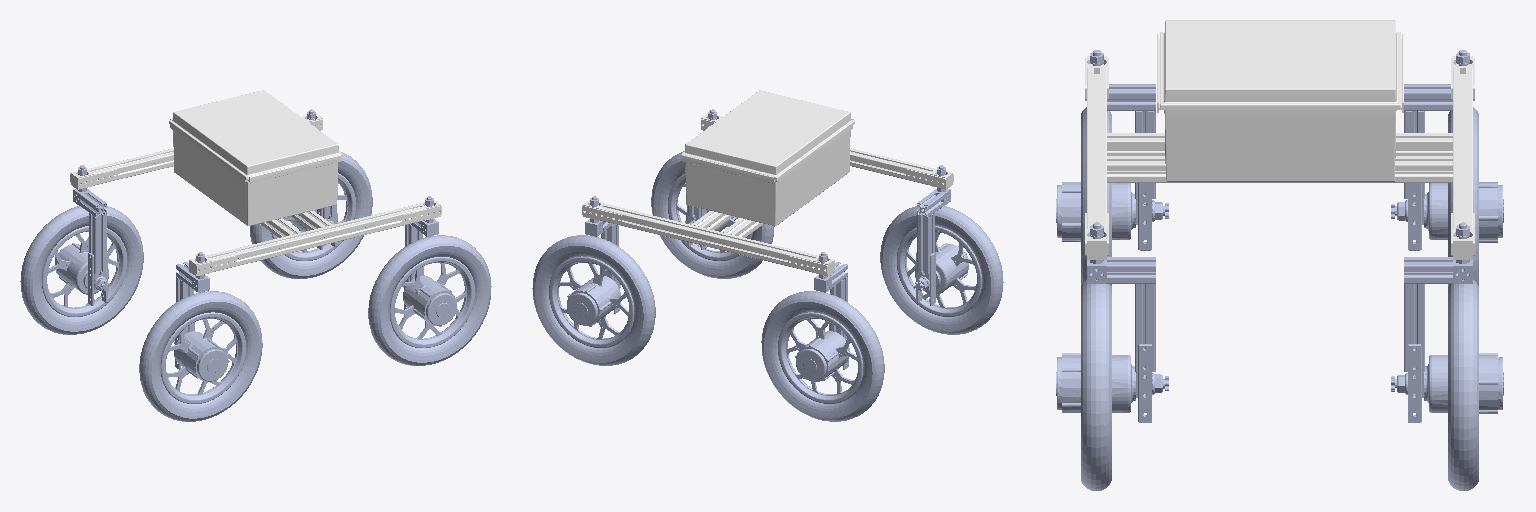
URDF robot description (atcart_omni_gazebo):
<?xml version="1.0" encoding="utf-8"?>
<!-- This URDF was automatically created by SolidWorks to URDF Exporter! Originally created by [author] ([email redacted]) 
     Commit Version: 1.6.0-1-g15f4949  Build Version: 1.6.7594.29634
     For more information, please see http://wiki.ros.org/sw_urdf_exporter -->
<robot
  name="atcart_omni_gazebo">
  <link
    name="base_link">
    <inertial>
      <origin
        xyz="-8.5272E-05 0.00019433 0.013517"
        rpy="0 0 0" />
      <mass
        value="3.6422" />
      <inertia
        ixx="0.035572"
        ixy="-2.0114E-09"
        ixz="-5.1822E-09"
        iyy="0.035027"
        iyz="-1.6826E-08"
        izz="0.06744" />
    </inertial>
    <visual>
      <origin
        xyz="0 0 0"
        rpy="0 0 0" />
      <geometry>
        <mesh
          filename="package://atcart_omni_gazebo/meshes/base_link.STL" />
      </geometry>
      <material
        name="">
        <color
          rgba="1 1 1 1" />
      </material>
    </visual>
    <collision>
      <origin
        xyz="0 0 0"
        rpy="0 0 0" />
      <geometry>
        <mesh
          filename="package://atcart_omni_gazebo/meshes/base_link.STL" />
      </geometry>
    </collision>
  </link>
  <link
    name="front_left_holder">
    <inertial>
      <origin
        xyz="-2.3682E-10 -0.053093 -0.15645"
        rpy="0 0 0" />
      <mass
        value="0.38557" />
      <inertia
        ixx="0.00036334"
        ixy="-3.3091E-13"
        ixz="2.2993E-12"
        iyy="0.00034289"
        iyz="2.014E-07"
        izz="7.3657E-05" />
    </inertial>
    <visual>
      <origin
        xyz="0 0 0"
        rpy="0 0 0" />
      <geometry>
        <mesh
          filename="package://atcart_omni_gazebo/meshes/front_left_holder.STL" />
      </geometry>
      <material
        name="">
        <color
          rgba="0.79216 0.81961 0.93333 1" />
      </material>
    </visual>
    <collision>
      <origin
        xyz="0 0 0"
        rpy="0 0 0" />
      <geometry>
        <mesh
          filename="package://atcart_omni_gazebo/meshes/front_left_holder.STL" />
      </geometry>
    </collision>
  </link>
  <joint
    name="front_left_holder_joint"
    type="revolute">
    <origin
      xyz="0.296 0.265 0.018"
      rpy="0 0 0" />
    <parent
      link="base_link" />
    <child
      link="front_left_holder" />
    <axis
      xyz="0 0 1" />
    <limit
      lower="-2.0"
      upper="2.0"
      effort="1000"
      velocity="1.5" />
  </joint>
  <link
    name="front_left_wheel">
    <inertial>
      <origin
        xyz="1.4231E-06 3.6548E-07 -0.10564"
        rpy="0 0 0" />
      <mass
        value="2.2821" />
      <inertia
        ixx="0.014899"
        ixy="1.1554E-12"
        ixz="-2.4532E-07"
        iyy="0.014899"
        iyz="-8.7617E-09"
        izz="0.02801" />
    </inertial>
    <visual>
      <origin
        xyz="0 0 0"
        rpy="0 0 0" />
      <geometry>
        <mesh
          filename="package://atcart_omni_gazebo/meshes/front_left_wheel.STL" />
      </geometry>
      <material
        name="">
        <color
          rgba="0.79216 0.81961 0.93333 1" />
      </material>
    </visual>
    <collision>
      <origin
        xyz="0 0 0"
        rpy="0 0 0" />
      <geometry>
        <mesh
          filename="package://atcart_omni_gazebo/meshes/front_left_wheel.STL" />
      </geometry>
    </collision>
  </link>
  <joint
    name="front_left_wheel_joint"
    type="continuous">
    <origin
      xyz="0 -0.1046 -0.256"
      rpy="1.5708 -0.17928 0" />
    <parent
      link="front_left_holder" />
    <child
      link="front_left_wheel" />
    <axis
      xyz="0 0 -1" />
    <limit effort="1000" velocity="314.0"/>
  </joint>
  <link
    name="front_right_holder">
    <inertial>
      <origin
        xyz="2.3682E-10 0.053093 -0.15645"
        rpy="0 0 0" />
      <mass
        value="0.38557" />
      <inertia
        ixx="0.00036334"
        ixy="-3.3091E-13"
        ixz="-2.2993E-12"
        iyy="0.00034289"
        iyz="-2.014E-07"
        izz="7.3657E-05" />
    </inertial>
    <visual>
      <origin
        xyz="0 0 0"
        rpy="0 0 0" />
      <geometry>
        <mesh
          filename="package://atcart_omni_gazebo/meshes/front_right_holder.STL" />
      </geometry>
      <material
        name="">
        <color
          rgba="0.79216 0.81961 0.93333 1" />
      </material>
    </visual>
    <collision>
      <origin
        xyz="0 0 0"
        rpy="0 0 0" />
      <geometry>
        <mesh
          filename="package://atcart_omni_gazebo/meshes/front_right_holder.STL" />
      </geometry>
    </collision>
  </link>
  <joint
    name="front_right_holder_joint"
    type="revolute">
    <origin
      xyz="0.296 -0.265 0.018"
      rpy="0 0 0" />
    <parent
      link="base_link" />
    <child
      link="front_right_holder" />
    <axis
      xyz="0 0 1" />
    <limit
      lower="-2.0"
      upper="2.0"
      effort="1000"
      velocity="1.5" />
  </joint>
  <link
    name="front_right_wheel">
    <inertial>
      <origin
        xyz="1.4231E-06 3.6548E-07 -0.10564"
        rpy="0 0 0" />
      <mass
        value="2.2821" />
      <inertia
        ixx="0.014899"
        ixy="1.2061E-12"
        ixz="-2.4532E-07"
        iyy="0.014899"
        iyz="-8.7617E-09"
        izz="0.02801" />
    </inertial>
    <visual>
      <origin
        xyz="0 0 0"
        rpy="0 0 0" />
      <geometry>
        <mesh
          filename="package://atcart_omni_gazebo/meshes/front_right_wheel.STL" />
      </geometry>
      <material
        name="">
        <color
          rgba="0.79216 0.81961 0.93333 1" />
      </material>
    </visual>
    <collision>
      <origin
        xyz="0 0 0"
        rpy="0 0 0" />
      <geometry>
        <mesh
          filename="package://atcart_omni_gazebo/meshes/front_right_wheel.STL" />
      </geometry>
    </collision>
  </link>
  <joint
    name="front_right_wheel_joint"
    type="continuous">
    <origin
      xyz="0 0.1046 -0.256"
      rpy="-1.5708 0.022465 0" />
    <parent
      link="front_right_holder" />
    <child
      link="front_right_wheel" />
    <axis
      xyz="0 0 1" />
    <limit effort="1000" velocity="314.0"/>      
  </joint>
  <link
    name="rear_left_holder">
    <inertial>
      <origin
        xyz="-2.3682E-10 -0.053093 -0.15645"
        rpy="0 0 0" />
      <mass
        value="0.38557" />
      <inertia
        ixx="0.00036334"
        ixy="-3.3091E-13"
        ixz="2.2993E-12"
        iyy="0.00034289"
        iyz="2.014E-07"
        izz="7.3657E-05" />
    </inertial>
    <visual>
      <origin
        xyz="0 0 0"
        rpy="0 0 0" />
      <geometry>
        <mesh
          filename="package://atcart_omni_gazebo/meshes/rear_left_holder.STL" />
      </geometry>
      <material
        name="">
        <color
          rgba="0.79216 0.81961 0.93333 1" />
      </material>
    </visual>
    <collision>
      <origin
        xyz="0 0 0"
        rpy="0 0 0" />
      <geometry>
        <mesh
          filename="package://atcart_omni_gazebo/meshes/rear_left_holder.STL" />
      </geometry>
    </collision>
  </link>
  <joint
    name="rear_left_holder_joint"
    type="revolute">
    <origin
      xyz="-0.296 0.265 0.018"
      rpy="0 0 0" />
    <parent
      link="base_link" />
    <child
      link="rear_left_holder" />
    <axis
      xyz="0 0 1" />
    <limit
      lower="-2.0"
      upper="2.0"
      effort="1000"
      velocity="1.5" />
  </joint>
  <link
    name="rear_left_wheel">
    <inertial>
      <origin
        xyz="1.4231E-06 3.6548E-07 -0.10564"
        rpy="0 0 0" />
      <mass
        value="2.2821" />
      <inertia
        ixx="0.014899"
        ixy="1.2951E-12"
        ixz="-2.4532E-07"
        iyy="0.014899"
        iyz="-8.7616E-09"
        izz="0.02801" />
    </inertial>
    <visual>
      <origin
        xyz="0 0 0"
        rpy="0 0 0" />
      <geometry>
        <mesh
          filename="package://atcart_omni_gazebo/meshes/rear_left_wheel.STL" />
      </geometry>
      <material
        name="">
        <color
          rgba="0.79216 0.81961 0.93333 1" />
      </material>
    </visual>
    <collision>
      <origin
        xyz="0 0 0"
        rpy="0 0 0" />
      <geometry>
        <mesh
          filename="package://atcart_omni_gazebo/meshes/rear_left_wheel.STL" />
      </geometry>
    </collision>
  </link>
  <joint
    name="rear_left_wheel_joint"
    type="continuous">
    <origin
      xyz="0 -0.1046 -0.256"
      rpy="1.5708 0.12741 0" />
    <parent
      link="rear_left_holder" />
    <child
      link="rear_left_wheel" />
    <axis
      xyz="0 0 -1" />
    <limit effort="1000" velocity="314.0"/>      
  </joint>
  <link
    name="rear_right_holder">
    <inertial>
      <origin
        xyz="2.3682E-10 0.053093 -0.15645"
        rpy="0 0 0" />
      <mass
        value="0.38557" />
      <inertia
        ixx="0.00036334"
        ixy="-3.3091E-13"
        ixz="-2.2993E-12"
        iyy="0.00034289"
        iyz="-2.014E-07"
        izz="7.3657E-05" />
    </inertial>
    <visual>
      <origin
        xyz="0 0 0"
        rpy="0 0 0" />
      <geometry>
        <mesh
          filename="package://atcart_omni_gazebo/meshes/rear_right_holder.STL" />
      </geometry>
      <material
        name="">
        <color
          rgba="0.79216 0.81961 0.93333 1" />
      </material>
    </visual>
    <collision>
      <origin
        xyz="0 0 0"
        rpy="0 0 0" />
      <geometry>
        <mesh
          filename="package://atcart_omni_gazebo/meshes/rear_right_holder.STL" />
      </geometry>
    </collision>
  </link>
  <joint
    name="rear_right_holder_joint"
    type="revolute">
    <origin
      xyz="-0.296 -0.265 0.018"
      rpy="0 0 0" />
    <parent
      link="base_link" />
    <child
      link="rear_right_holder" />
    <axis
      xyz="0 0 1" />
    <limit
      lower="-2.0"
      upper="2.0"
      effort="1000"
      velocity="1.5" />
  </joint>
  <link
    name="rear_right_wheel">
    <inertial>
      <origin
        xyz="1.4231E-06 3.6548E-07 -0.10564"
        rpy="0 0 0" />
      <mass
        value="2.2821" />
      <inertia
        ixx="0.014899"
        ixy="1.1554E-12"
        ixz="-2.4532E-07"
        iyy="0.014899"
        iyz="-8.7617E-09"
        izz="0.02801" />
    </inertial>
    <visual>
      <origin
        xyz="0 0 0"
        rpy="0 0 0" />
      <geometry>
        <mesh
          filename="package://atcart_omni_gazebo/meshes/rear_right_wheel.STL" />
      </geometry>
      <material
        name="">
        <color
          rgba="0.79216 0.81961 0.93333 1" />
      </material>
    </visual>
    <collision>
      <origin
        xyz="0 0 0"
        rpy="0 0 0" />
      <geometry>
        <mesh
          filename="package://atcart_omni_gazebo/meshes/rear_right_wheel.STL" />
      </geometry>
    </collision>
  </link>
  <joint
    name="rear_right_wheel_joint"
    type="continuous">
    <origin
      xyz="0 0.1046 -0.256"
      rpy="-1.5708 -0.2482 0" />
    <parent
      link="rear_right_holder" />
    <child
      link="rear_right_wheel" />
    <axis
      xyz="0 0 1" />
    <limit effort="1000" velocity="314.0"/>      
  </joint>


    <transmission name="front_left_drive_transmission">
    <type>transmission_interface/SimpleTransmission</type>
    <joint name="front_left_wheel_joint">
      <hardwareInterface>hardware_interface/EffortJointInterface</hardwareInterface>
    </joint>
    <actuator name="front_left_motor">
      <mechanicalReduction>1</mechanicalReduction>
      <hardwareInterface>EffortJointInterface</hardwareInterface>
    </actuator>
  </transmission>

  <transmission name="front_right_drive_transmission">
    <type>transmission_interface/SimpleTransmission</type>
    <joint name="front_right_wheel_joint">
      <hardwareInterface>hardware_interface/EffortJointInterface</hardwareInterface>
    </joint>
    <actuator name="front_right_motor">
      <mechanicalReduction>1</mechanicalReduction>
      <hardwareInterface>hardware_interface/EffortJointInterface</hardwareInterface>
    </actuator>
  </transmission>

  <transmission name="front_left_steering_transmission">
    <type>transmission_interface/SimpleTransmission</type>
    <joint name="front_left_holder_joint">
      <hardwareInterface>hardware_interface/EffortJointInterface</hardwareInterface>
    </joint>
    <actuator name="front_left_servo">
      <mechanicalReduction>1</mechanicalReduction>
      <hardwareInterface>hardware_interface/EffortJointInterface</hardwareInterface>
    </actuator>
  </transmission>

  <transmission name="front_right_steering_transmission">
    <type>transmission_interface/SimpleTransmission</type>
    <joint name="front_right_holder_joint">
      <hardwareInterface>hardware_interface/EffortJointInterface</hardwareInterface>
    </joint>
    <actuator name="front_right_servo">
      <mechanicalReduction>1</mechanicalReduction>
      <hardwareInterface>hardware_interface/EffortJointInterface</hardwareInterface>
    </actuator>
  </transmission>




    <transmission name="rear_left_drive_transmission">
    <type>transmission_interface/SimpleTransmission</type>
    <joint name="rear_left_wheel_joint">
      <hardwareInterface>hardware_interface/EffortJointInterface</hardwareInterface>
    </joint>
    <actuator name="rear_left_motor">
      <mechanicalReduction>1</mechanicalReduction>
      <hardwareInterface>EffortJointInterface</hardwareInterface>
    </actuator>
  </transmission>

  <transmission name="rear_right_drive_transmission">
    <type>transmission_interface/SimpleTransmission</type>
    <joint name="rear_right_wheel_joint">
      <hardwareInterface>hardware_interface/EffortJointInterface</hardwareInterface>
    </joint>
    <actuator name="rear_right_motor">
      <mechanicalReduction>1</mechanicalReduction>
      <hardwareInterface>hardware_interface/EffortJointInterface</hardwareInterface>
    </actuator>
  </transmission>

  <transmission name="rear_left_steering_transmission">
    <type>transmission_interface/SimpleTransmission</type>
    <joint name="rear_left_holder_joint">
      <hardwareInterface>hardware_interface/EffortJointInterface</hardwareInterface>
    </joint>
    <actuator name="rear_left_servo">
      <mechanicalReduction>1</mechanicalReduction>
      <hardwareInterface>hardware_interface/EffortJointInterface</hardwareInterface>
    </actuator>
  </transmission>

  <transmission name="rear_right_steering_transmission">
    <type>transmission_interface/SimpleTransmission</type>
    <joint name="rear_right_holder_joint">
      <hardwareInterface>hardware_interface/EffortJointInterface</hardwareInterface>
    </joint>
    <actuator name="rear_right_servo">
      <mechanicalReduction>1</mechanicalReduction>
      <hardwareInterface>hardware_interface/EffortJointInterface</hardwareInterface>
    </actuator>
  </transmission>

  <gazebo>
    <plugin name="gazebo_ros_control" filename="libgazebo_ros_control.so">
      <robotNamespace>/atcart_omni</robotNamespace>
      <robotSimType>gazebo_ros_control/DefaultRobotHWSim</robotSimType>
      <legacyModeNS>true</legacyModeNS>
    </plugin>
  

    <plugin name="p3d_base_controller" filename="libgazebo_ros_p3d.so">
      <alwaysOn>true</alwaysOn>
      <updateRate>100.0</updateRate>
      <bodyName>base_link</bodyName>
      <topicName>odom</topicName>
      <gaussianNoise>0.01</gaussianNoise>
      <frameName>world</frameName>
      <xyzOffsets>0 0 0</xyzOffsets>
      <rpyOffsets>0 0 0</rpyOffsets>
    </plugin>

  </gazebo>


</robot>

--- Render facts (derived) ---
3 views of the same robot in one strip: view 1: azimuth 30°, elevation 25°; view 2: azimuth 150°, elevation 25°; view 3: azimuth 270°, elevation 25° (orthographic).
Robot: atcart_omni_gazebo — 9 links, 8 joints (4 revolute, 4 continuous); root link base_link; default pose: every joint at zero.
Visible links, largest first — view 1: base_link, rear_right_wheel, front_right_wheel, rear_left_wheel, front_left_wheel, rear_left_holder, rear_right_holder, front_right_holder; view 2: base_link, rear_left_wheel, front_left_wheel, rear_right_wheel, front_right_wheel, rear_right_holder, rear_left_holder, front_left_holder; view 3: base_link, front_left_wheel, front_right_wheel, front_right_holder, front_left_holder, rear_left_wheel, rear_right_wheel, rear_right_holder, rear_left_holder.
Boxes of the visible links, x1=… form: base_link: x1=70, y1=90, x2=441, y2=275; rear_right_wheel: x1=139, y1=291, x2=262, y2=421; front_right_wheel: x1=368, y1=235, x2=491, y2=365; rear_left_wheel: x1=20, y1=206, x2=143, y2=334; front_left_wheel: x1=250, y1=152, x2=372, y2=278; rear_left_holder: x1=73, y1=165, x2=107, y2=305; rear_right_holder: x1=175, y1=252, x2=209, y2=369; front_right_holder: x1=404, y1=196, x2=438, y2=309; base_link: x1=582, y1=90, x2=953, y2=275; rear_left_wheel: x1=761, y1=291, x2=884, y2=421; front_left_wheel: x1=532, y1=235, x2=655, y2=365; rear_right_wheel: x1=880, y1=206, x2=1003, y2=334; front_right_wheel: x1=651, y1=151, x2=774, y2=278; rear_right_holder: x1=916, y1=165, x2=950, y2=305; rear_left_holder: x1=814, y1=252, x2=848, y2=369; front_left_holder: x1=585, y1=196, x2=619, y2=313; base_link: x1=1085, y1=20, x2=1474, y2=259; front_left_wheel: x1=1391, y1=280, x2=1503, y2=490; front_right_wheel: x1=1056, y1=280, x2=1168, y2=490; front_right_holder: x1=1087, y1=222, x2=1155, y2=422; front_left_holder: x1=1404, y1=222, x2=1472, y2=422; rear_left_wheel: x1=1391, y1=107, x2=1503, y2=286; rear_right_wheel: x1=1056, y1=107, x2=1168, y2=285; rear_right_holder: x1=1090, y1=50, x2=1155, y2=250; rear_left_holder: x1=1404, y1=50, x2=1469, y2=250.
Size in the robot's own frame: 0.9037 by 0.65 by 0.5438 metres.
Meshes: 9 distinct files referenced, 9 mesh visuals loaded (9 binary STL).